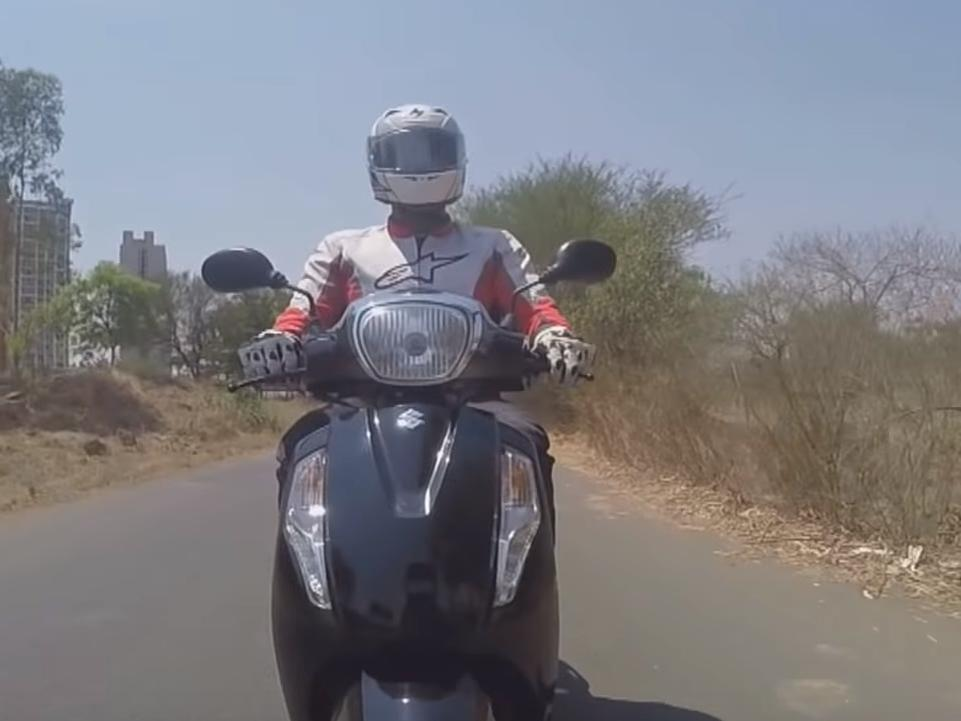helmet: (366, 103, 467, 209)
